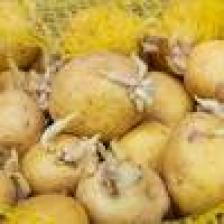Sprouted potato: (38, 49, 154, 144), (159, 106, 224, 218), (12, 131, 108, 202)
